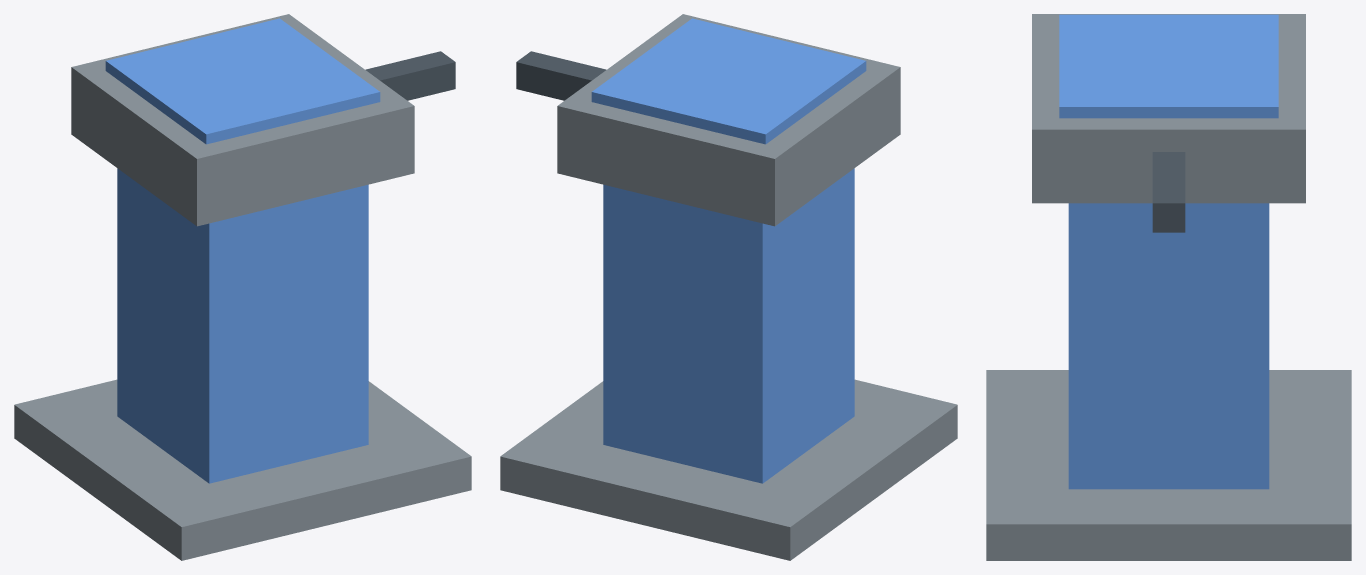
File: verdedigingstoren.glb
The picture shows the model from 3 angles, left to right: view 1: azimuth 30°, elevation 25°; view 2: azimuth 150°, elevation 25°; view 3: azimuth 270°, elevation 25°; orthographic projection. The views are drawn at different scales.
Visible parts, largest first — view 1: hull_team_LOD0, hull_steel_LOD0, turret_steel_LOD0, turret_team_LOD0, barrel_dark_LOD0; view 2: hull_team_LOD0, hull_steel_LOD0, turret_steel_LOD0, turret_team_LOD0, barrel_dark_LOD0; view 3: hull_team_LOD0, hull_steel_LOD0, turret_steel_LOD0, turret_team_LOD0, barrel_dark_LOD0.
Part boxes in pixels (<box>): hull_team_LOD0: <box>117,168,368,483</box>; hull_steel_LOD0: <box>14,379,471,560</box>; turret_steel_LOD0: <box>71,14,414,226</box>; turret_team_LOD0: <box>105,18,380,144</box>; barrel_dark_LOD0: <box>365,51,455,100</box>; hull_team_LOD0: <box>603,168,854,483</box>; hull_steel_LOD0: <box>500,379,957,560</box>; turret_steel_LOD0: <box>557,14,900,226</box>; turret_team_LOD0: <box>591,18,866,144</box>; barrel_dark_LOD0: <box>516,51,606,100</box>; hull_team_LOD0: <box>1068,203,1269,489</box>; hull_steel_LOD0: <box>986,370,1351,560</box>; turret_steel_LOD0: <box>1032,14,1305,203</box>; turret_team_LOD0: <box>1059,14,1278,118</box>; barrel_dark_LOD0: <box>1152,152,1185,232</box>.
Size of what is drawn, in the model's own units: 5.43 by 5.75 by 4.5.
